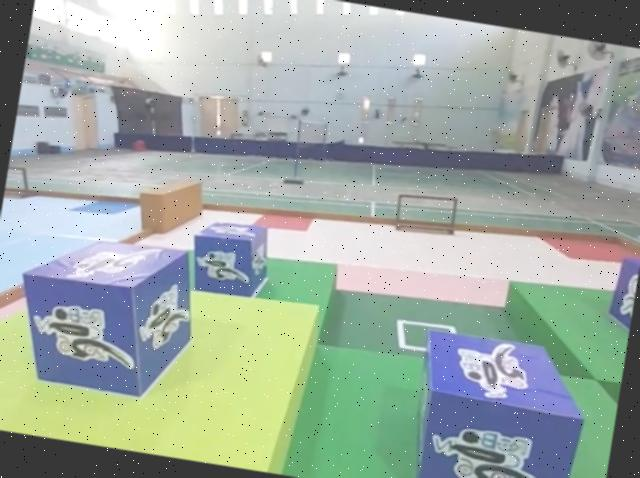R1 Blue: (4, 224, 201, 405), (397, 321, 595, 478), (185, 216, 275, 302)
R2 Real Blue: (604, 256, 640, 347)
